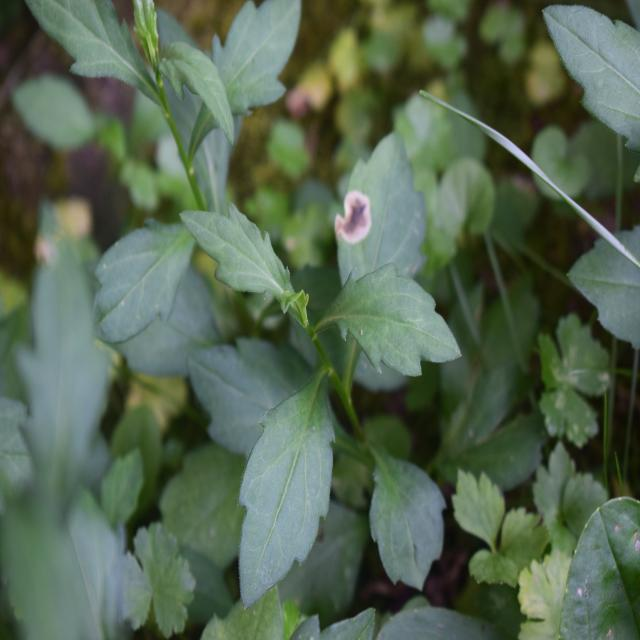Indian aster: (182, 151, 448, 600), (47, 0, 285, 284)
